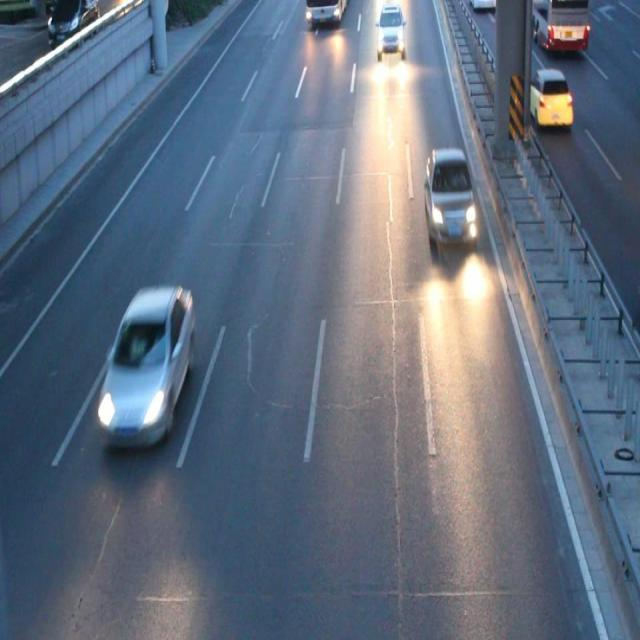car: (100, 287, 193, 437), (522, 68, 571, 124), (376, 1, 404, 51), (468, 1, 498, 11)
truck: (426, 150, 476, 240)
van: (512, 2, 586, 48), (304, 1, 348, 25)
